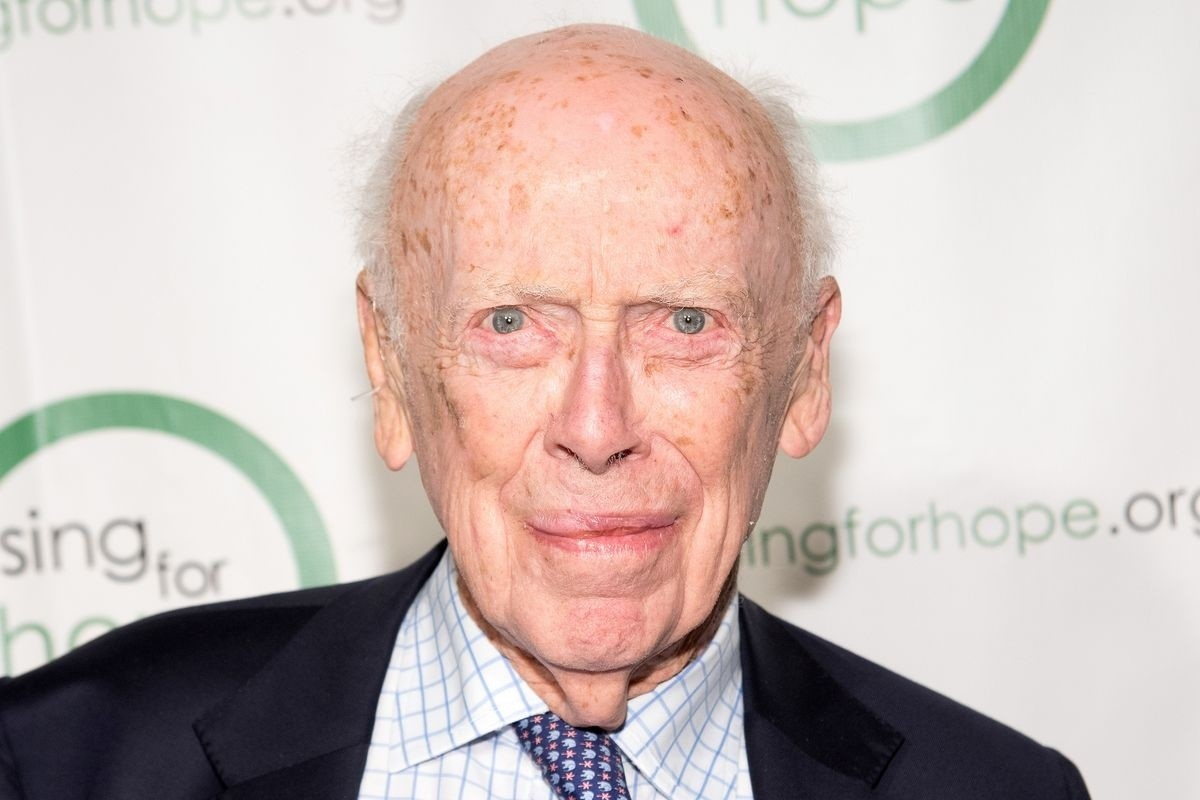face_no_mask: (354, 19, 844, 669)
